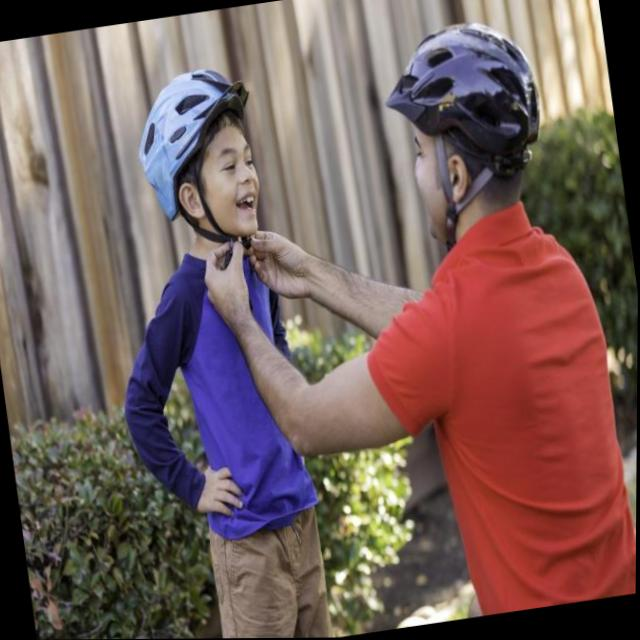helmet: (376, 15, 561, 262), (127, 60, 275, 264)
